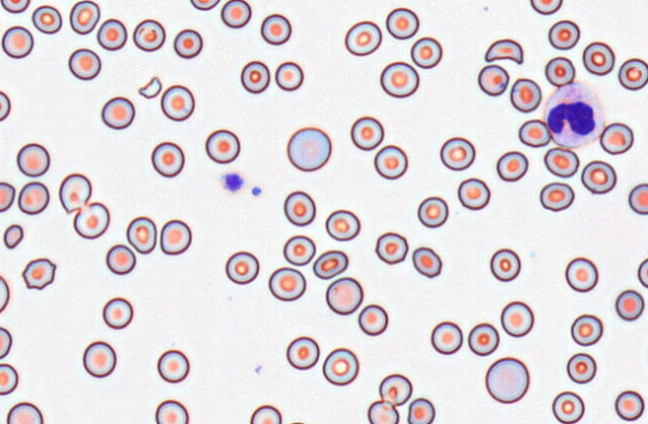GRAN: (544, 82, 607, 149)
PLT: (222, 173, 244, 191), (250, 186, 263, 197)
RBC: (484, 356, 529, 403), (286, 126, 331, 171), (325, 276, 363, 314), (380, 61, 419, 97), (73, 201, 109, 239), (322, 347, 358, 385), (344, 20, 382, 56), (268, 266, 305, 301), (82, 340, 116, 377), (160, 84, 194, 121), (500, 300, 534, 337), (439, 136, 475, 170), (16, 142, 50, 177), (581, 160, 616, 194), (373, 144, 407, 179), (205, 129, 240, 163), (151, 141, 184, 177), (565, 256, 598, 292), (126, 216, 157, 254), (225, 250, 259, 284), (159, 219, 191, 255), (283, 190, 315, 226), (378, 373, 412, 406), (101, 96, 135, 129), (156, 349, 189, 383), (350, 116, 383, 150), (286, 336, 319, 370), (21, 257, 56, 289), (325, 209, 360, 241), (543, 146, 579, 177), (457, 177, 490, 210), (132, 18, 165, 51), (551, 390, 584, 423), (570, 313, 603, 346), (375, 231, 408, 264), (385, 7, 419, 39), (467, 322, 499, 356), (599, 122, 633, 154), (582, 41, 614, 75), (510, 77, 541, 112), (312, 249, 348, 279), (17, 181, 49, 214), (1, 25, 33, 58), (430, 321, 462, 354), (68, 48, 101, 80), (69, 0, 100, 34), (539, 181, 574, 211), (410, 36, 442, 68), (477, 64, 509, 96), (282, 234, 315, 265), (489, 248, 520, 281), (357, 303, 388, 335), (105, 243, 136, 275), (548, 19, 580, 50), (102, 297, 133, 329), (417, 196, 448, 228), (496, 150, 528, 181), (260, 13, 291, 45), (618, 57, 648, 90), (240, 60, 270, 93), (97, 18, 127, 50), (544, 56, 575, 86), (614, 390, 644, 421), (566, 352, 596, 383), (615, 289, 644, 321), (31, 5, 62, 34), (412, 246, 441, 277), (518, 119, 550, 147), (274, 61, 303, 91), (173, 28, 202, 58), (220, 0, 251, 28), (6, 401, 43, 424), (154, 399, 188, 424), (367, 400, 399, 423), (628, 182, 648, 214), (249, 404, 282, 423), (0, 363, 18, 395), (0, 181, 15, 212), (529, 0, 562, 14), (0, 326, 12, 359), (0, 0, 30, 13), (0, 274, 9, 313), (637, 257, 648, 288), (0, 90, 10, 121), (189, 0, 220, 10), (284, 421, 315, 424)
Schistocyte: (59, 173, 93, 213), (484, 38, 524, 65), (3, 223, 24, 249), (139, 77, 162, 100)
